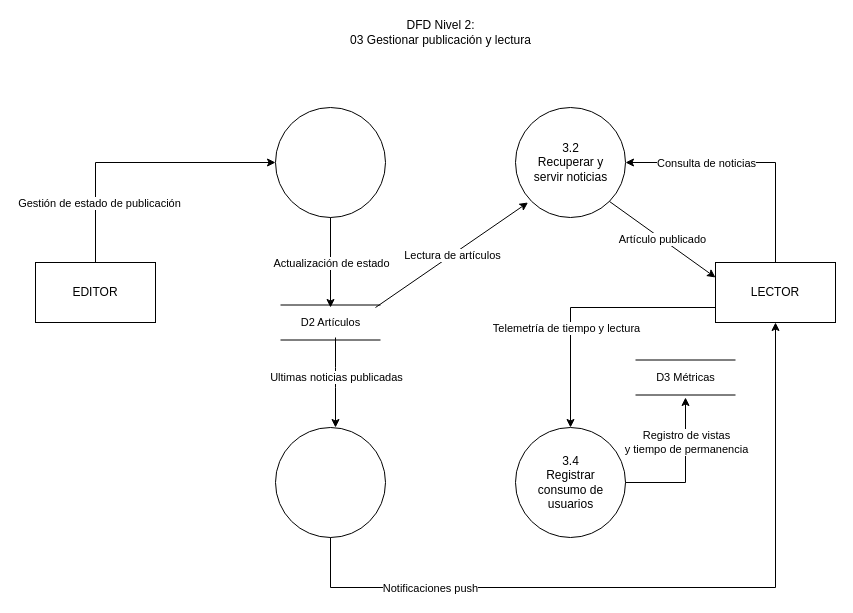
Image size: 853x613. Some labels were removed from this diagram. The centre of each missing label's shape, as x and y in pixels:
"3.1 Modificar estado editorial" belongs at (330,162).
"3.3 Emitir notificaciones push" belongs at (330,482).
